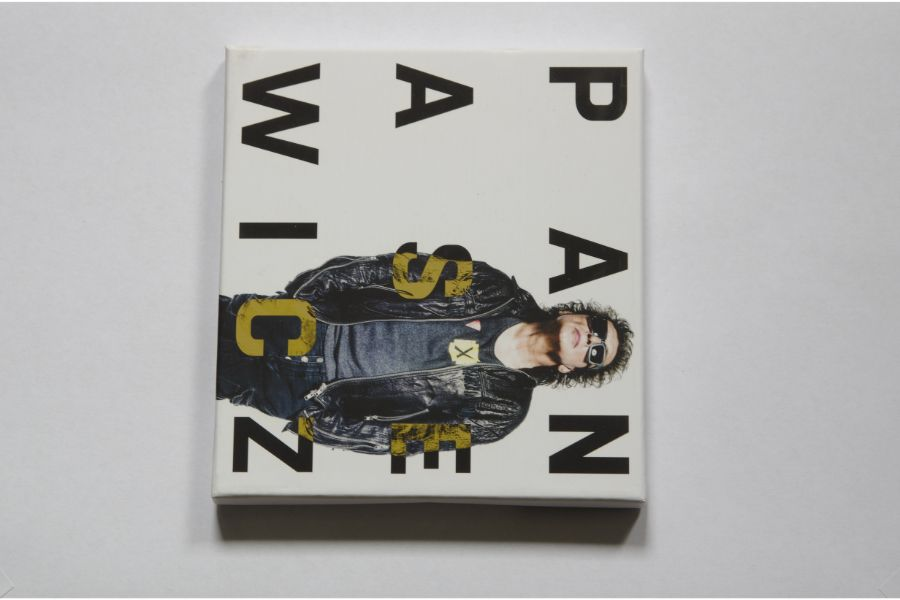album: (212, 39, 648, 509)
